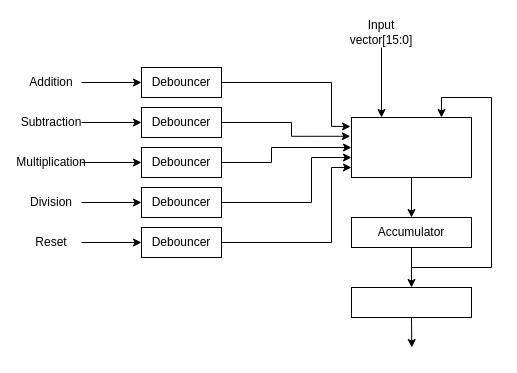
Image size: 517x373. Some labels were removed from this diagram. The shapes that lost their labels are listed below. From the top down, each one's box as (x1, y1, x2, y2) in pixels, then its label:
(350, 116, 472, 178): ALU
(350, 286, 472, 318): Display driver
